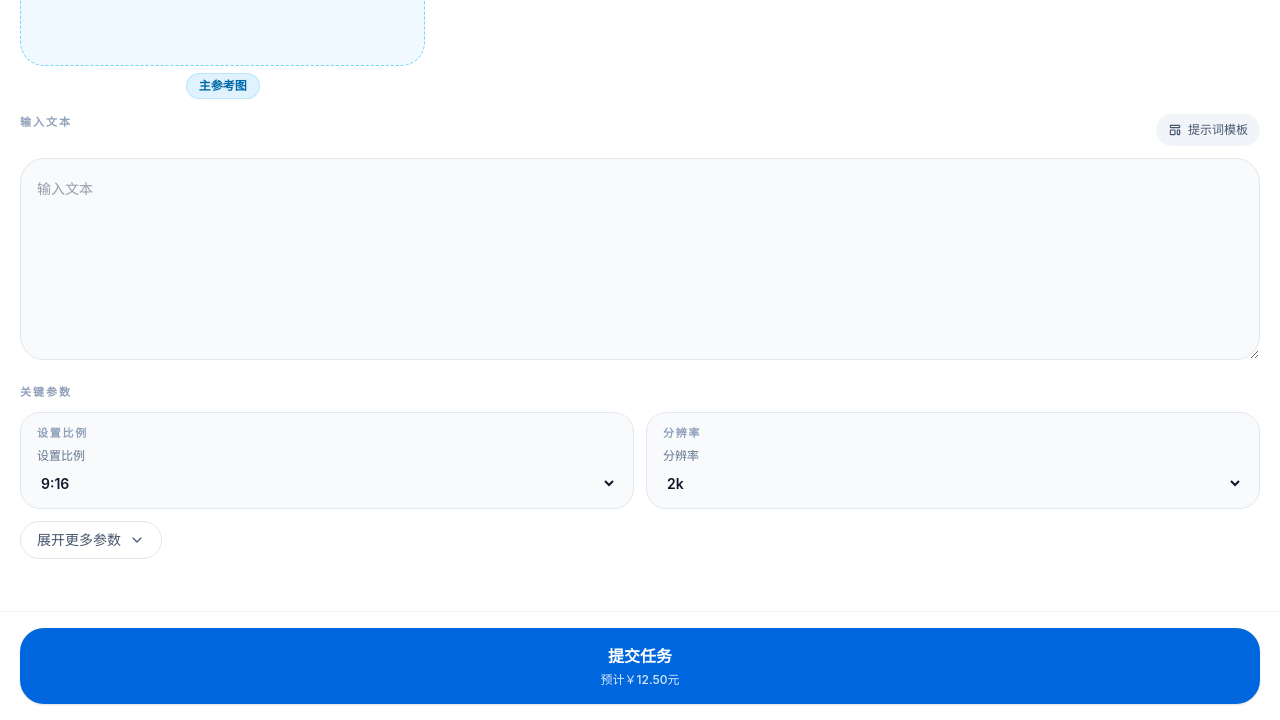
it: SubmitForm › uses human-readable field labels and option labels from imported imported semantics
(page scrolled)
Expected: the 1st text "设置比例" is shown, [37,426,88,440]
Expected: the 1st text "分辨率" is shown, [663,426,701,440]
What coordinates should you click on to do the following:
click the button with aria-label "toggle-advanced-params"
I would click on:
 (91, 540)
Its box is [20,521,162,559].
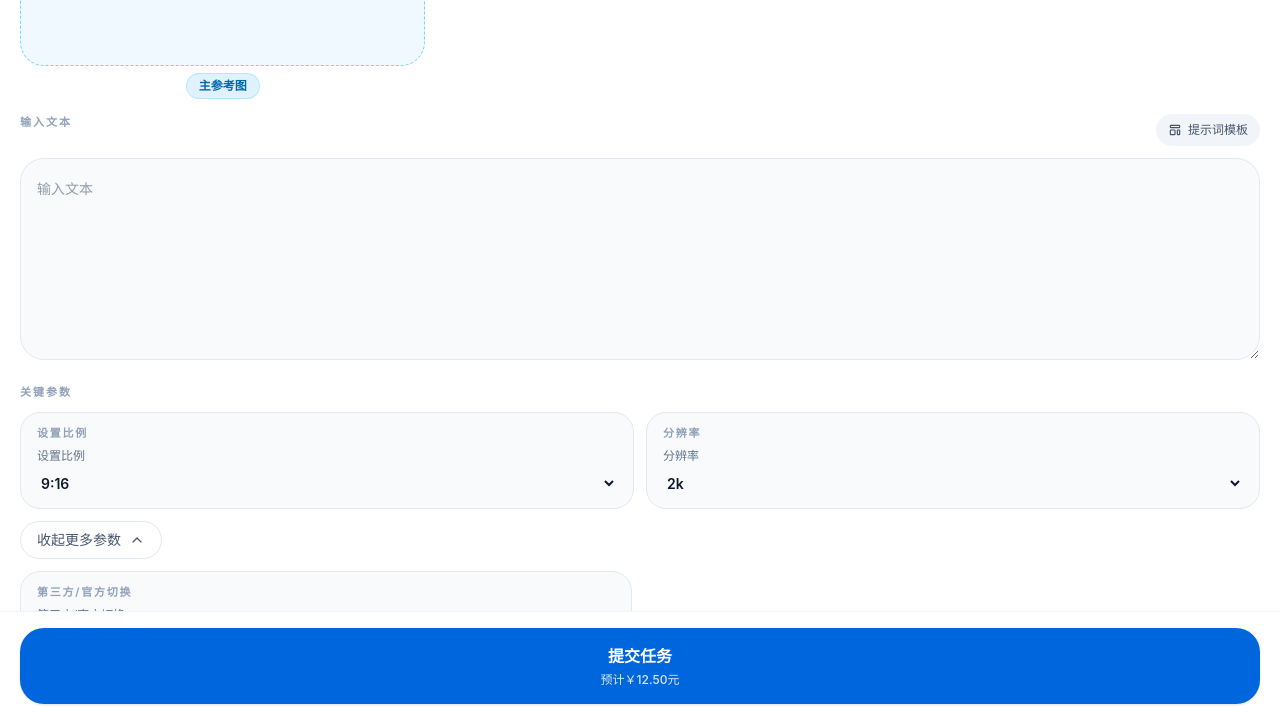
Expected: the 1st dropdown shows "9:16", [37,474,617,493]
Now the text "第三方/官方切换" is shown, box [37,585,132,599]
